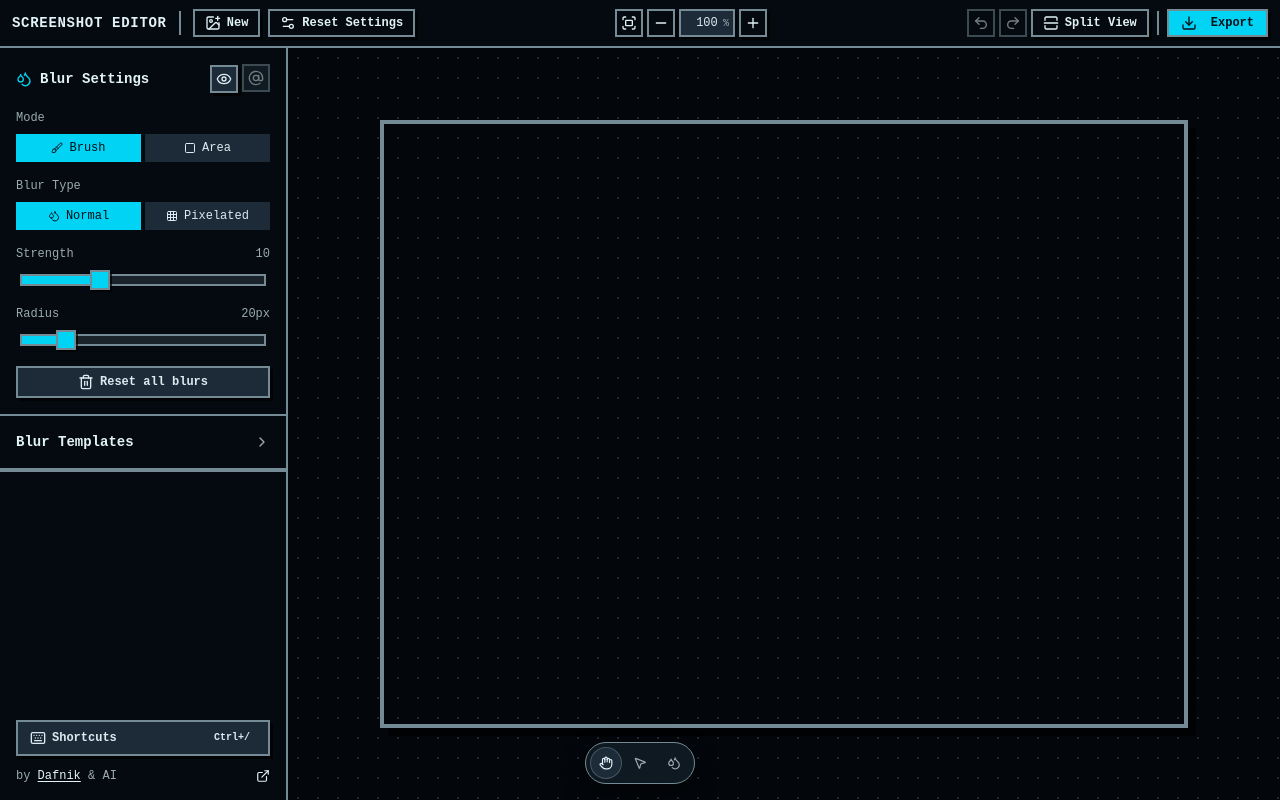
Scenario: ShortcutsModal › opens via shortcuts button in sidebar
Click the button "Shortcuts Ctrl+/".
click(143, 738)  # box [16,720,270,756]
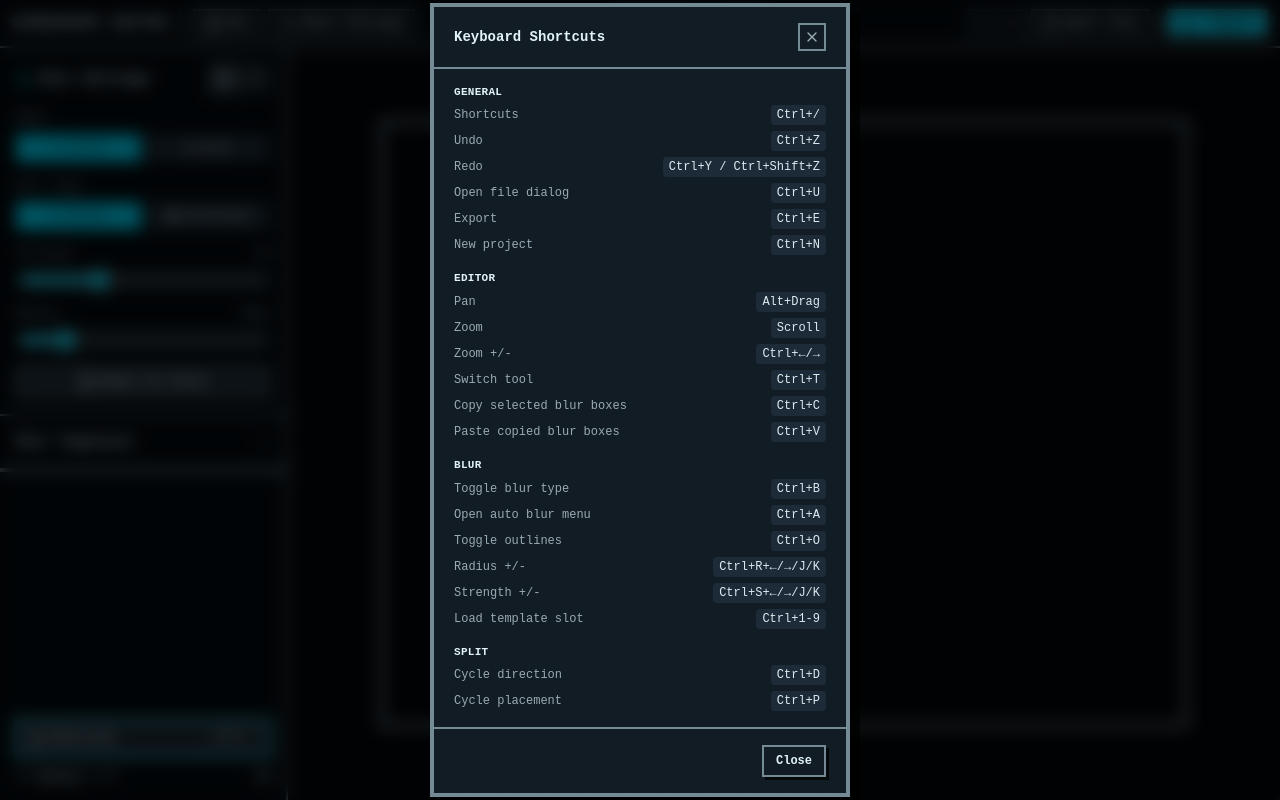
Expected: the heading "Keyboard Shortcuts" is shown, [454,27,605,47]
